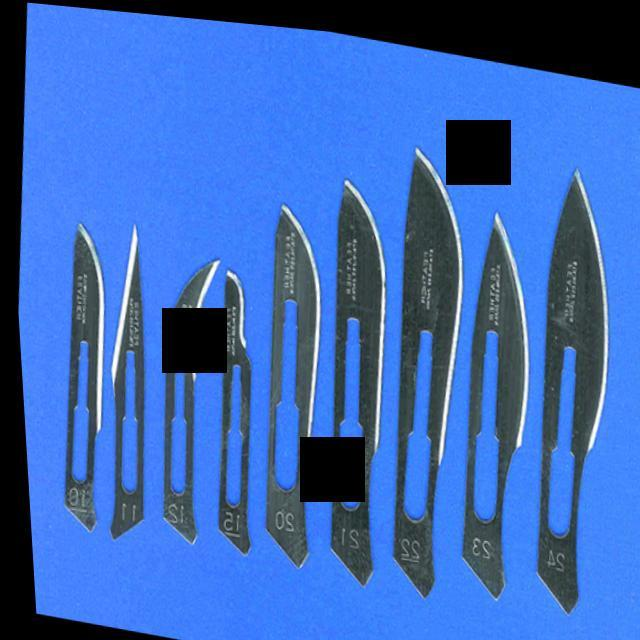Surgical blade: (496, 132, 640, 612), (356, 126, 489, 614), (430, 176, 550, 602), (294, 159, 408, 592), (235, 184, 336, 571), (133, 236, 235, 565), (192, 255, 274, 562)
